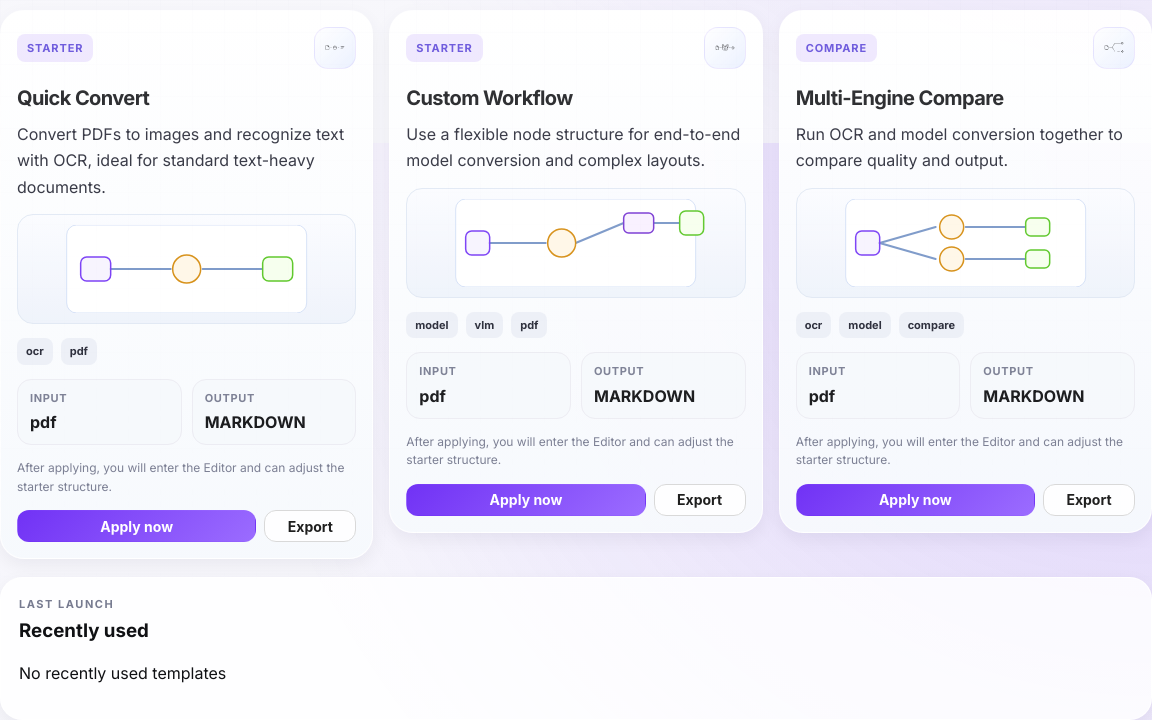
Test case: TemplateCenterPage › applies template and navigates to editor
(page scrolled)
Click the 3rd button "Apply now": x=137, y=526 [17,510,256,542]
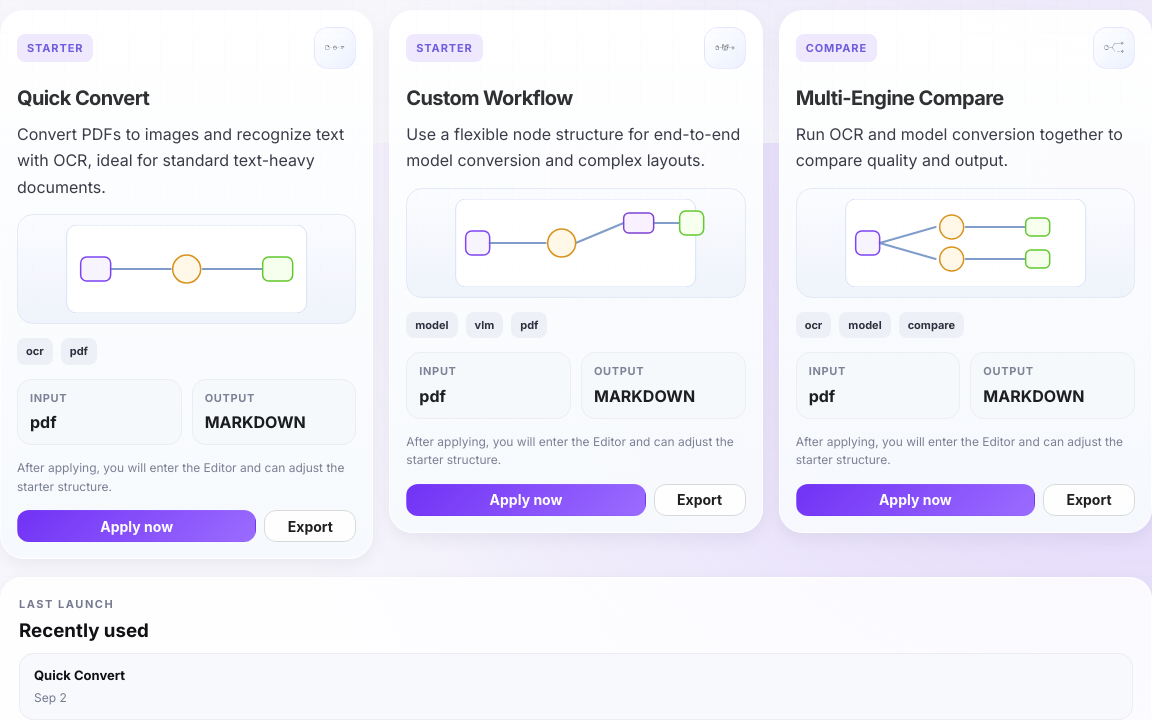
Expected: the element with test id "template-card-tpl-ocr-basic" is shown, [0,10,373,559]
Expected: the text "Quick Convert" is shown, [34,667,125,683]
